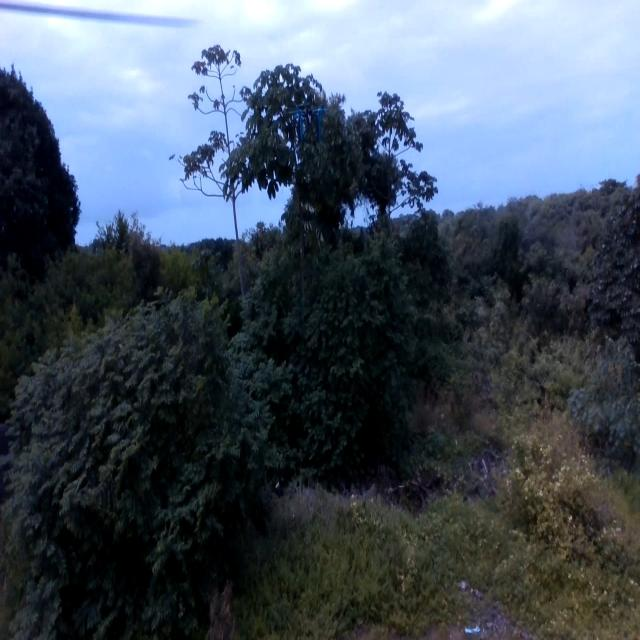-uav-: (281, 98, 347, 148)
